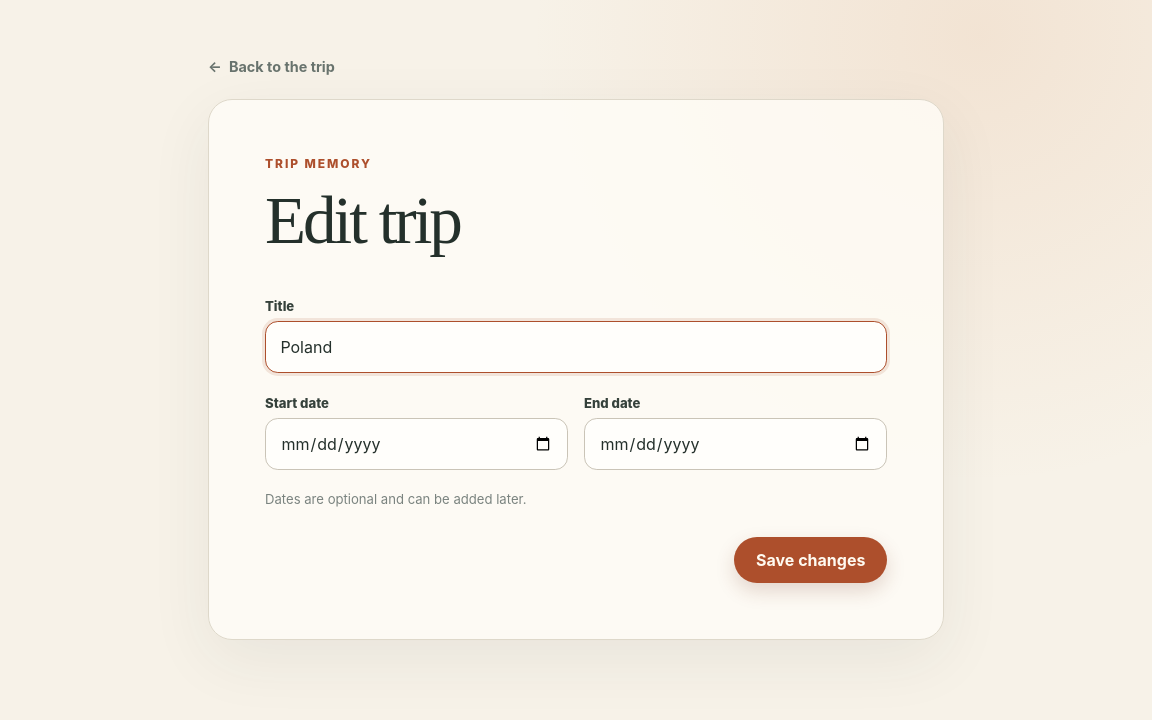
Test: edit trip flow › shows the API's field errors next to the fields
The width and height of the screenshot is (1152, 720).
Expected: the field labelled "Title" is shown, [265,321,887,373]
What coordinates should you click on to do the following:
click the button "Save changes"
I would click on:
 (811, 560)
Its box is [734,537,887,583].
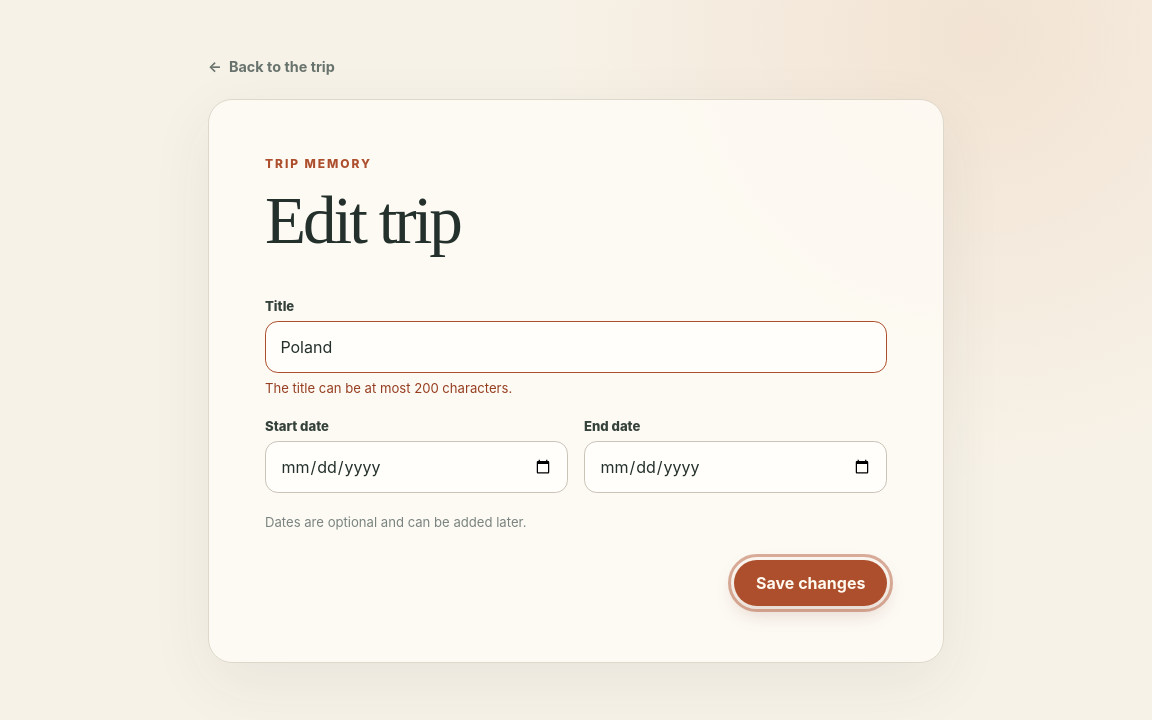
Expected: the text "The title can be at most 200 characters." is shown, [265,380,512,396]
